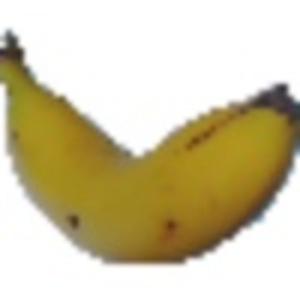banana: (2, 27, 298, 269)
